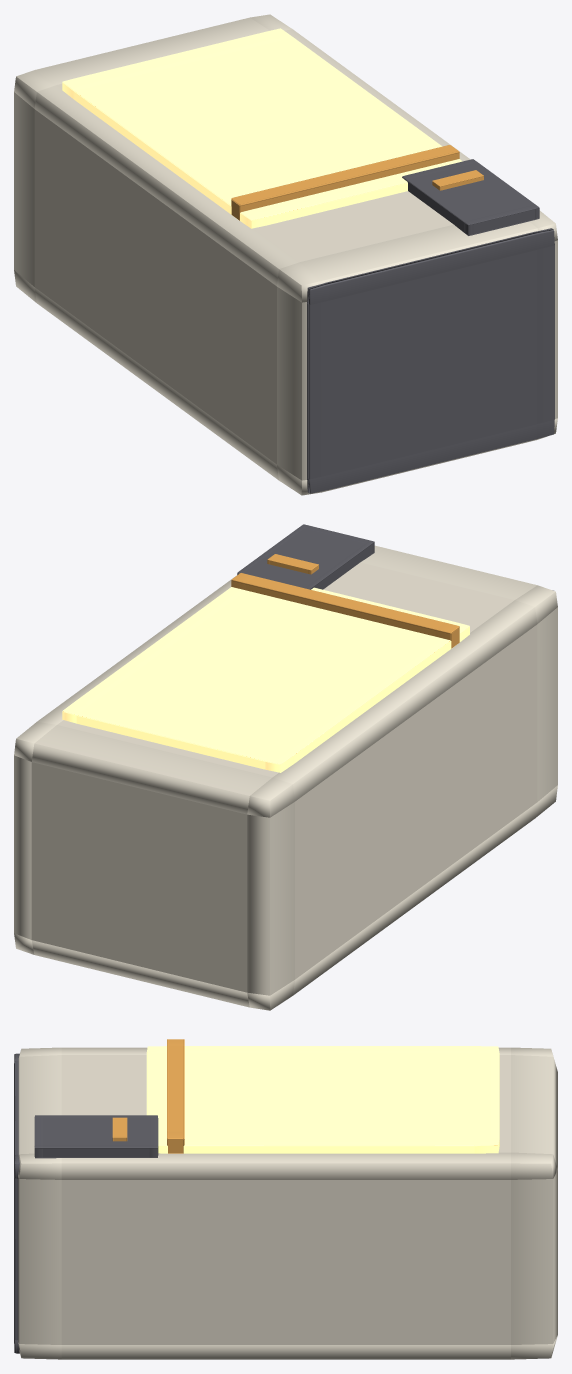
The model's file is vending_machine.glb.
3 views of the same model, one above another, from view 1: azimuth 30°, elevation 25°; view 2: azimuth 150°, elevation 25°; view 3: azimuth 270°, elevation 25° (orthographic). The views are drawn at different scales.
Visible parts, largest first — view 1: body, base_kick, front_panel, coin_panel, shelf_strip, coin_slot; view 2: body, front_panel, coin_panel, shelf_strip, coin_slot; view 3: body, front_panel, coin_panel, shelf_strip, base_kick.
Part boxes in pixels (<box>): body: <box>14,14,557,495</box>; base_kick: <box>307,228,554,493</box>; front_panel: <box>62,28,462,228</box>; coin_panel: <box>402,159,539,235</box>; shelf_strip: <box>231,145,459,220</box>; coin_slot: <box>432,170,483,190</box>; body: <box>14,545,557,1010</box>; front_panel: <box>62,587,469,772</box>; coin_panel: <box>237,524,374,589</box>; shelf_strip: <box>231,573,459,648</box>; coin_slot: <box>267,554,318,574</box>; body: <box>18,1047,557,1359</box>; front_panel: <box>146,1046,499,1153</box>; coin_panel: <box>34,1115,158,1158</box>; shelf_strip: <box>167,1039,184,1153</box>; base_kick: <box>14,1053,19,1353</box>.
Bounding box in the file's own units: 0.9479 × 0.8042 × 1.85.
